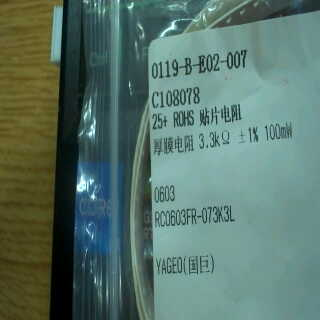3.3kO: (196, 128, 233, 151)
